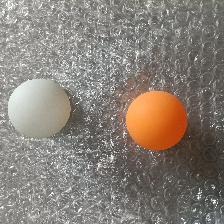WhiteBall: (8, 77, 70, 137)
YellowBall: (125, 89, 187, 150)
